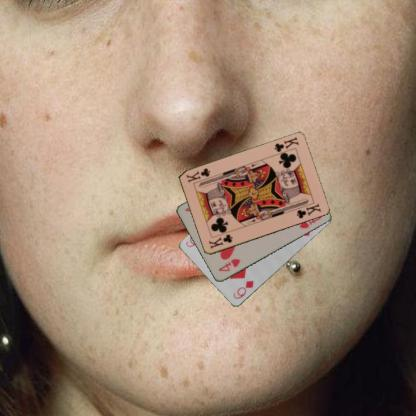4h: (216, 256, 242, 273)
6d: (230, 278, 255, 300)
Kc: (271, 135, 300, 157), (206, 232, 234, 250)
